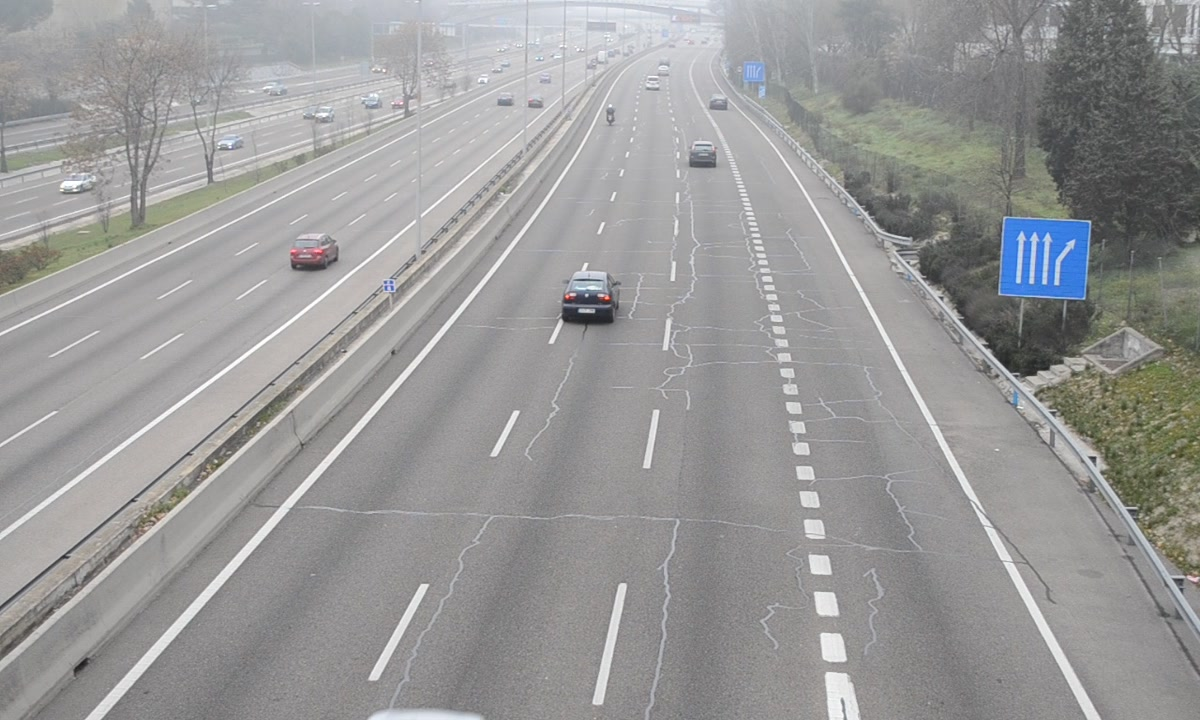car: (560, 271, 620, 326), (689, 140, 718, 169)
motorcycle: (606, 103, 616, 128)
